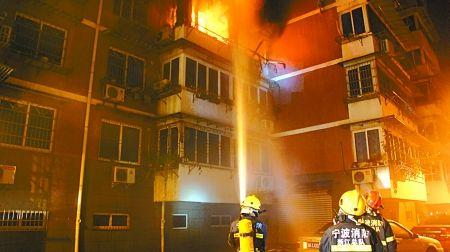fire: (183, 5, 249, 55)
